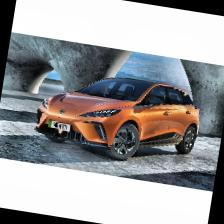EV: (32, 65, 207, 174)
